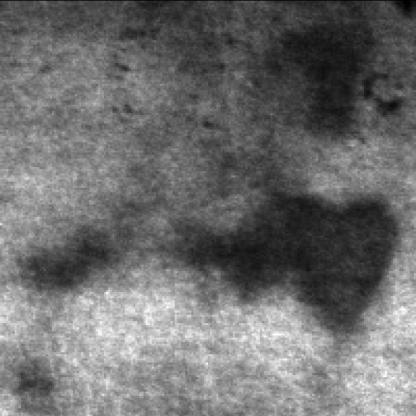patches: (175, 195, 389, 334), (256, 23, 370, 137), (21, 237, 112, 289)
